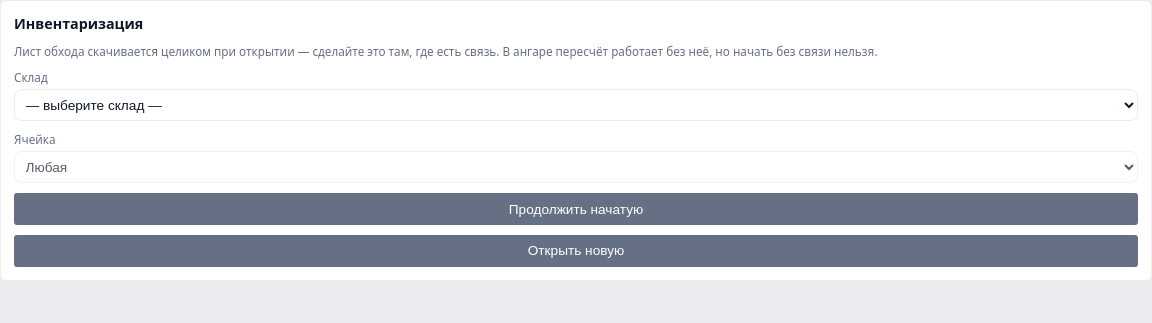
Test: сторож размонтирования на пересчёте › в StrictMode счётчик отвечает числом, а не висит на «Загружаем…»
Select "Ткацкая" in the dropdown labelled "Склад" at x=576, y=105, box top-left (14, 89), bottom-right (1138, 121)
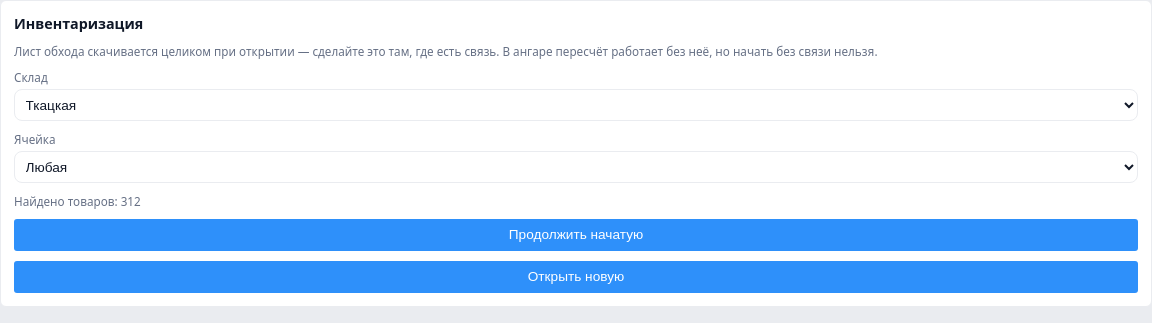
Now the text "Найдено товаров: 312" is shown, box top-left (14, 193), bottom-right (141, 209)
